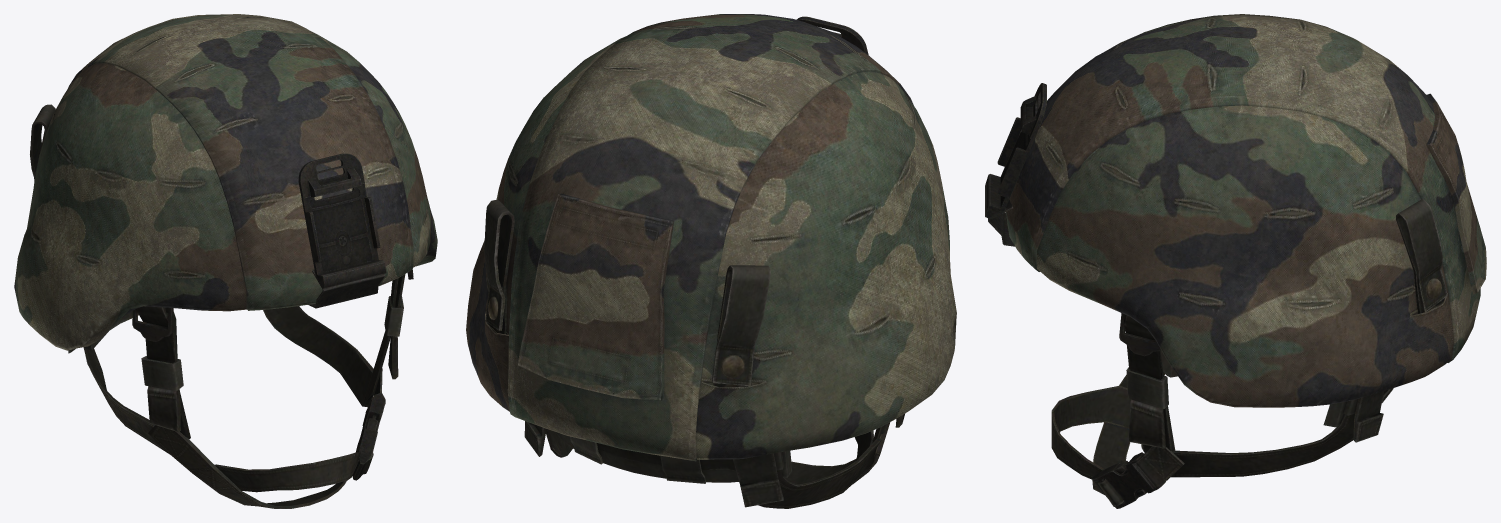
3 views of the same model, side by side, from view 1: azimuth 30°, elevation 25°; view 2: azimuth 150°, elevation 25°; view 3: azimuth 270°, elevation 25° (orthographic). The views are drawn at different scales.
Visible parts, largest first — view 1: 头盔; view 2: 头盔; view 3: 头盔.
Part boxes in pixels (<box>): 头盔: <box>14,14,437,508</box>; 头盔: <box>466,14,956,508</box>; 头盔: <box>985,14,1486,508</box>.
Size of the model in its own units: 22.97 by 25.52 by 25.98.
Materials: 1 (1 with a texture image).
